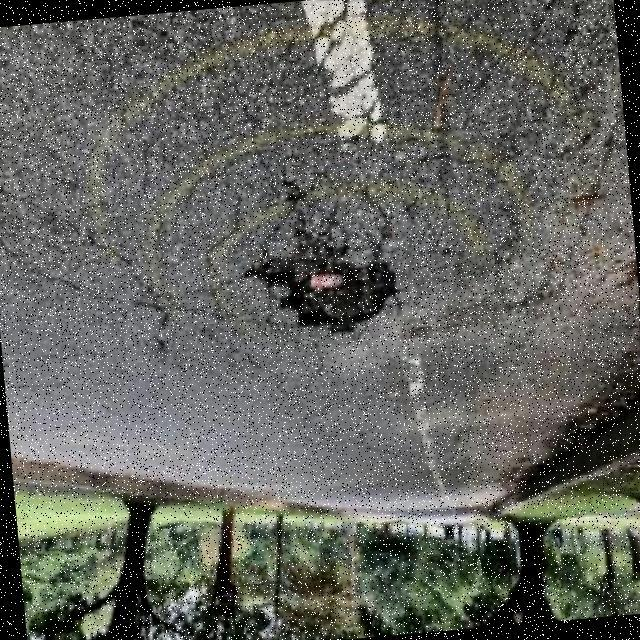Pothole: (245, 230, 396, 331)
